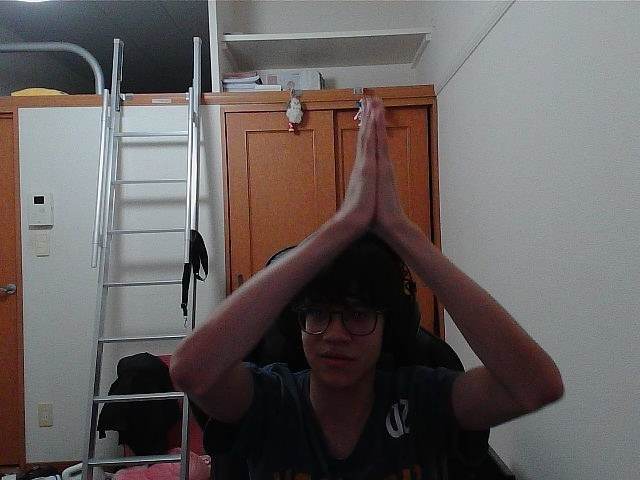pray: (359, 112, 373, 205)
